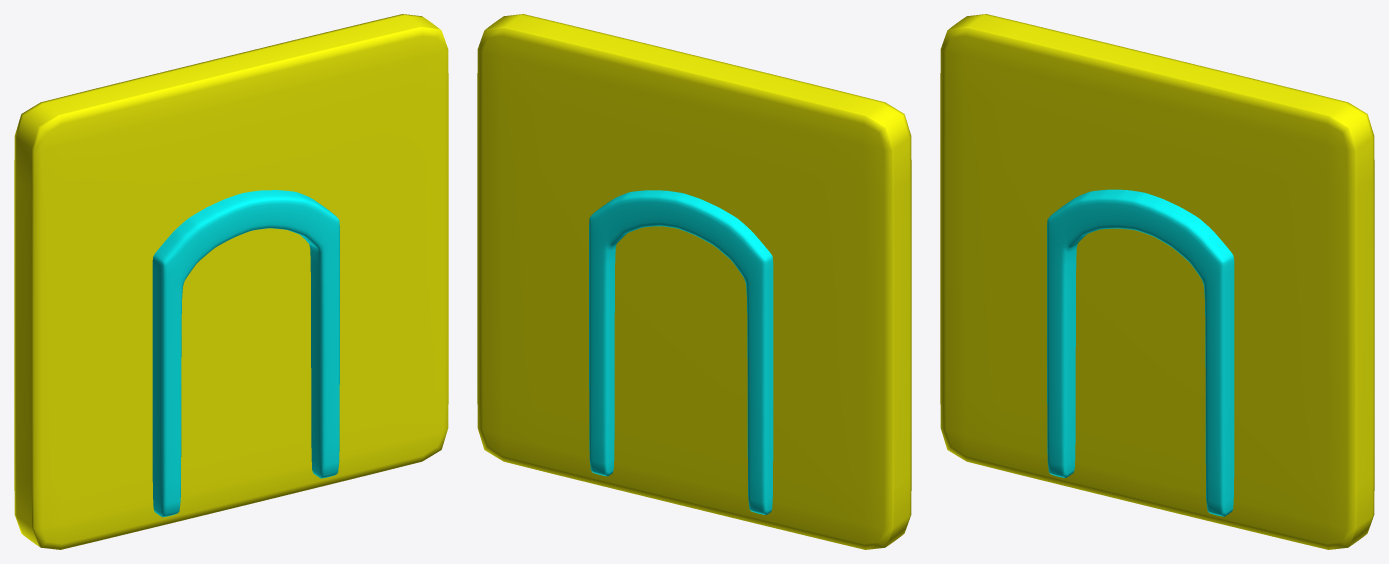
3 views of the same model, side by side, from view 1: azimuth 30°, elevation 25°; view 2: azimuth 150°, elevation 25°; view 3: azimuth 330°, elevation 25° (orthographic).
Visible parts, largest first — view 1: polySurface1015; view 2: polySurface1015; view 3: polySurface1015.
Boxes of the visible parts, x1,y1,x2,y2 form: polySurface1015: (14, 14, 448, 549); polySurface1015: (477, 14, 911, 549); polySurface1015: (940, 14, 1374, 549).
Bounding box in the file's own units: 0.9994 × 0.9994 × 0.1741.
